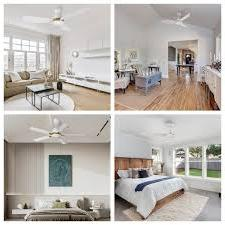bed: (115, 157, 184, 216), (27, 195, 90, 220)
chair: (114, 70, 129, 93), (131, 62, 146, 81), (114, 50, 128, 70), (125, 48, 139, 64)
clock: (14, 201, 23, 210)
fan: (20, 1, 95, 34), (21, 117, 91, 149), (161, 6, 193, 32), (154, 119, 184, 140)
sofa: (4, 66, 57, 95)
table: (203, 64, 220, 110), (138, 72, 163, 93), (34, 90, 61, 109), (20, 84, 50, 101), (11, 208, 33, 219), (176, 62, 193, 76), (118, 69, 137, 78), (90, 206, 104, 217), (147, 64, 162, 72), (153, 169, 166, 177)
